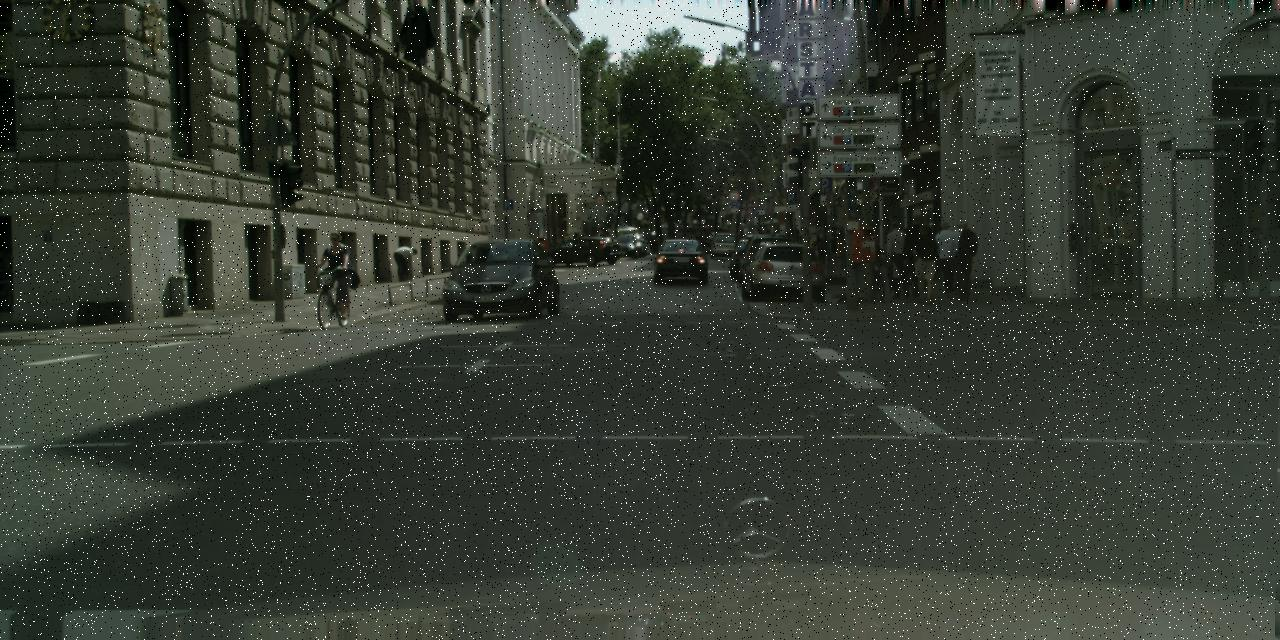ped: (904, 214, 937, 296), (947, 218, 979, 300), (909, 222, 941, 302), (882, 221, 914, 297), (319, 230, 350, 307), (932, 222, 962, 294), (894, 227, 922, 296), (680, 228, 728, 253), (824, 224, 842, 269), (812, 226, 829, 271), (881, 233, 896, 273), (811, 226, 825, 261), (759, 226, 770, 255), (790, 223, 800, 249), (564, 230, 588, 240), (839, 227, 845, 267), (672, 230, 681, 252), (739, 228, 752, 238), (774, 229, 780, 244), (783, 230, 789, 244), (755, 228, 759, 233), (768, 229, 769, 229)
